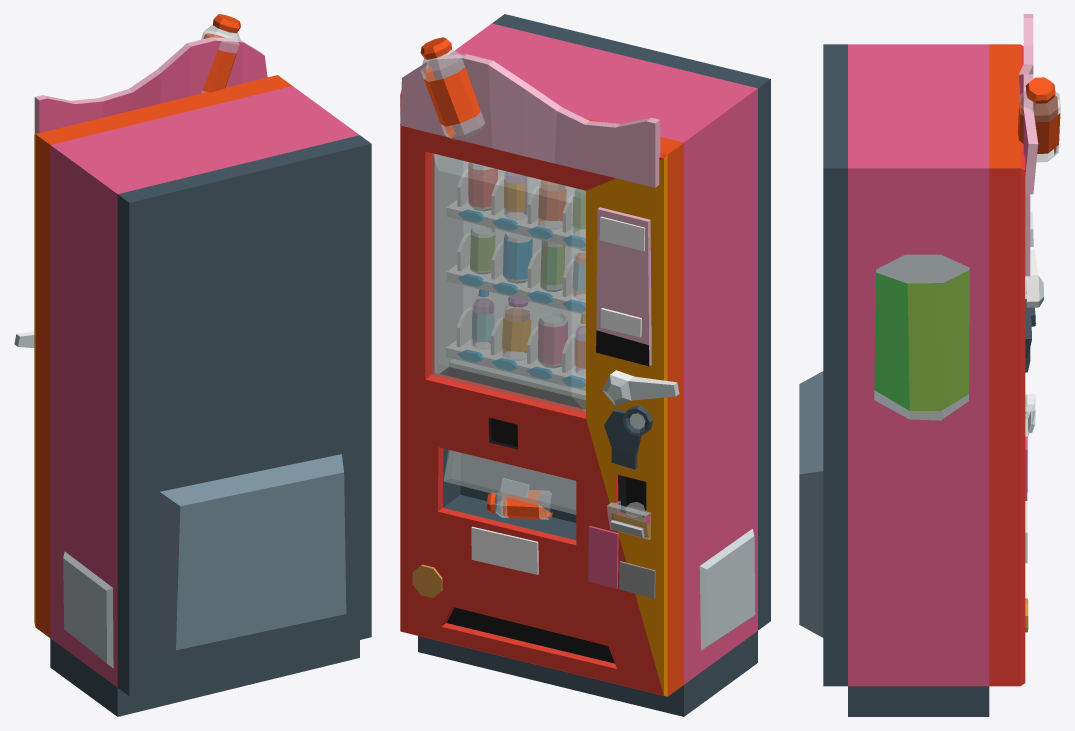
Rendered from vending_machine.gltf.
3 renders of one model, left to right at view 1: azimuth 30°, elevation 25°; view 2: azimuth 150°, elevation 25°; view 3: azimuth 270°, elevation 25°, orthographic. The views are drawn at different scales.
Parts seen in each view (by area): view 1: group1848869498; view 2: group1848869498; view 3: group1848869498.
Part boxes in pixels (x1,y1,x2,y2): group1848869498: [14, 14, 371, 716]; group1848869498: [400, 14, 770, 716]; group1848869498: [799, 14, 1060, 716].
Bounding box in the file's own units: 0.9298 × 2.02 × 0.78.
